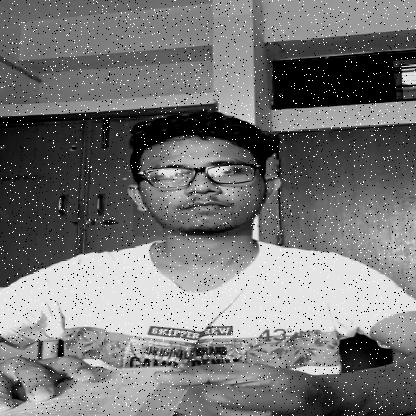Normal: (133, 126, 262, 236)
